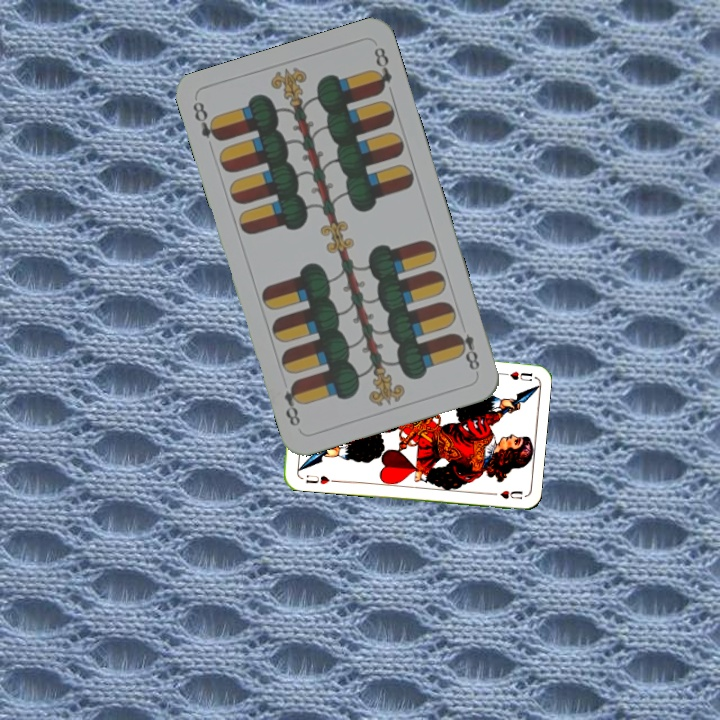E8: (188, 97, 224, 144), (450, 328, 483, 376)
HU: (495, 368, 534, 384), (302, 471, 332, 487)
